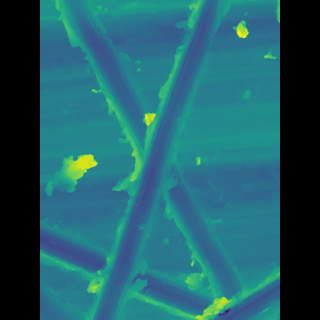Loch: (82, 0, 224, 320), (106, 0, 216, 320), (69, 220, 202, 320)
